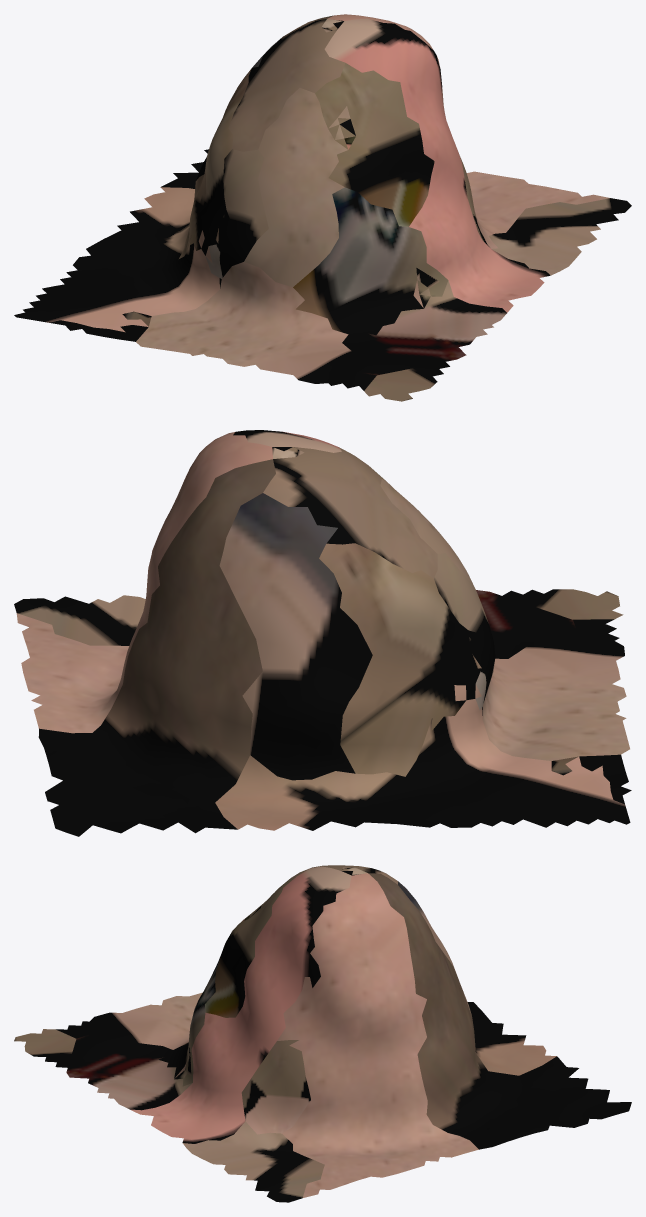
Rendered from Nowayjose.dae.
The picture shows the model from 3 angles, top to bottom: view 1: azimuth 30°, elevation 25°; view 2: azimuth 150°, elevation 25°; view 3: azimuth 270°, elevation 25°; orthographic projection. The views are drawn at different scales.
Visible parts, largest first — view 1: textured; view 2: textured; view 3: textured.
Part boxes in pixels (box(x1,y1,x2,y2)): textured: box(14, 14, 631, 401); textured: box(14, 430, 631, 836); textured: box(14, 865, 631, 1202).
Size of the model in its own units: 0.4645 by 0.4563 by 0.1823.
7 materials, 7 textured.
